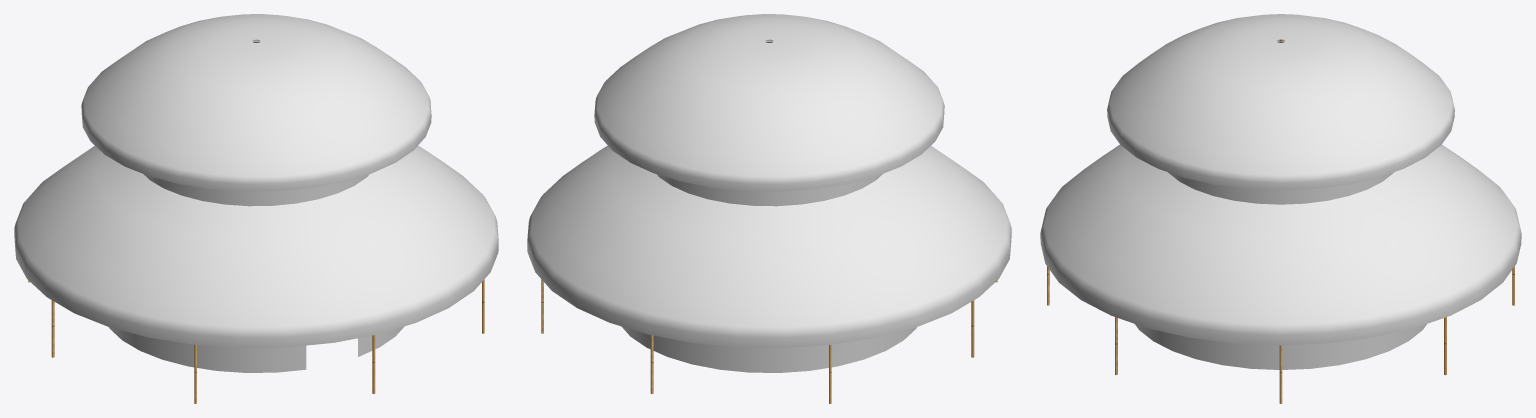
The model's file is oca-central.fbx.
3 renders of one model, left to right at view 1: azimuth 30°, elevation 25°; view 2: azimuth 150°, elevation 25°; view 3: azimuth 270°, elevation 25°, orthographic.
Parts seen in each view (by area): view 1: oca-central; view 2: oca-central; view 3: oca-central.
Boxes of the visible parts, left/top/right/bottom form: oca-central: left=14, top=14, right=498, bottom=403; oca-central: left=527, top=14, right=1011, bottom=403; oca-central: left=1040, top=14, right=1521, bottom=403.
Bounding box in the file's own units: 2065 × 1249 × 2065.
